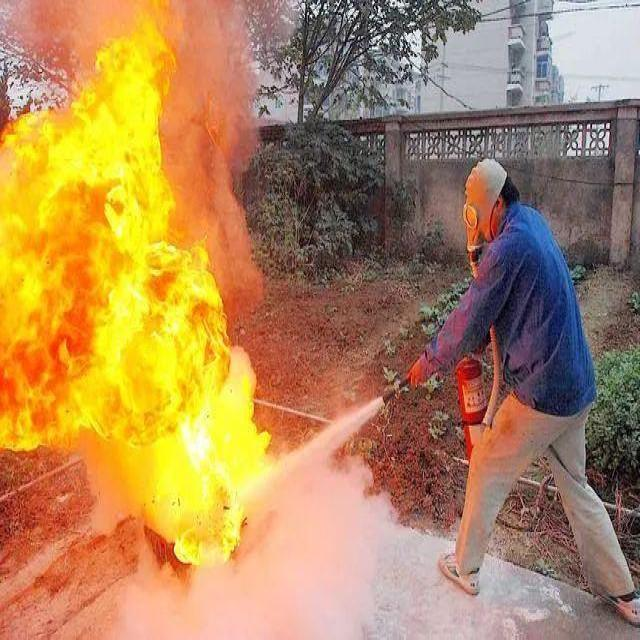Fire: (0, 31, 261, 564)
